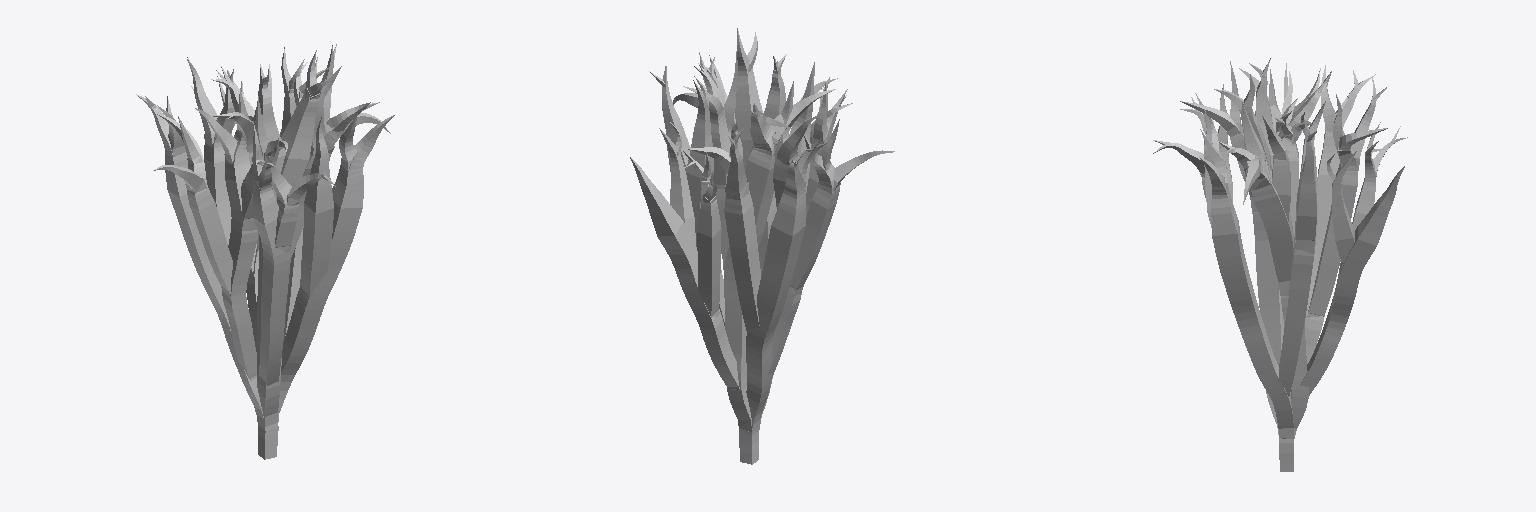
File: bendytree_000008.obj
The picture shows the model from 3 angles: view 1: azimuth 30°, elevation 25°; view 2: azimuth 150°, elevation 25°; view 3: azimuth 270°, elevation 25°; orthographic projection.
Visible parts, largest first — view 1: treemesh_treemesh.001; view 2: treemesh_treemesh.001; view 3: treemesh_treemesh.001.
Part boxes in pixels (left/top/right/bottom): treemesh_treemesh.001: left=136, top=44, right=394, bottom=459; treemesh_treemesh.001: left=630, top=28, right=894, bottom=464; treemesh_treemesh.001: left=1153, top=58, right=1407, bottom=471.
Size of the model in its own units: 3.85 by 6.51 by 3.69.